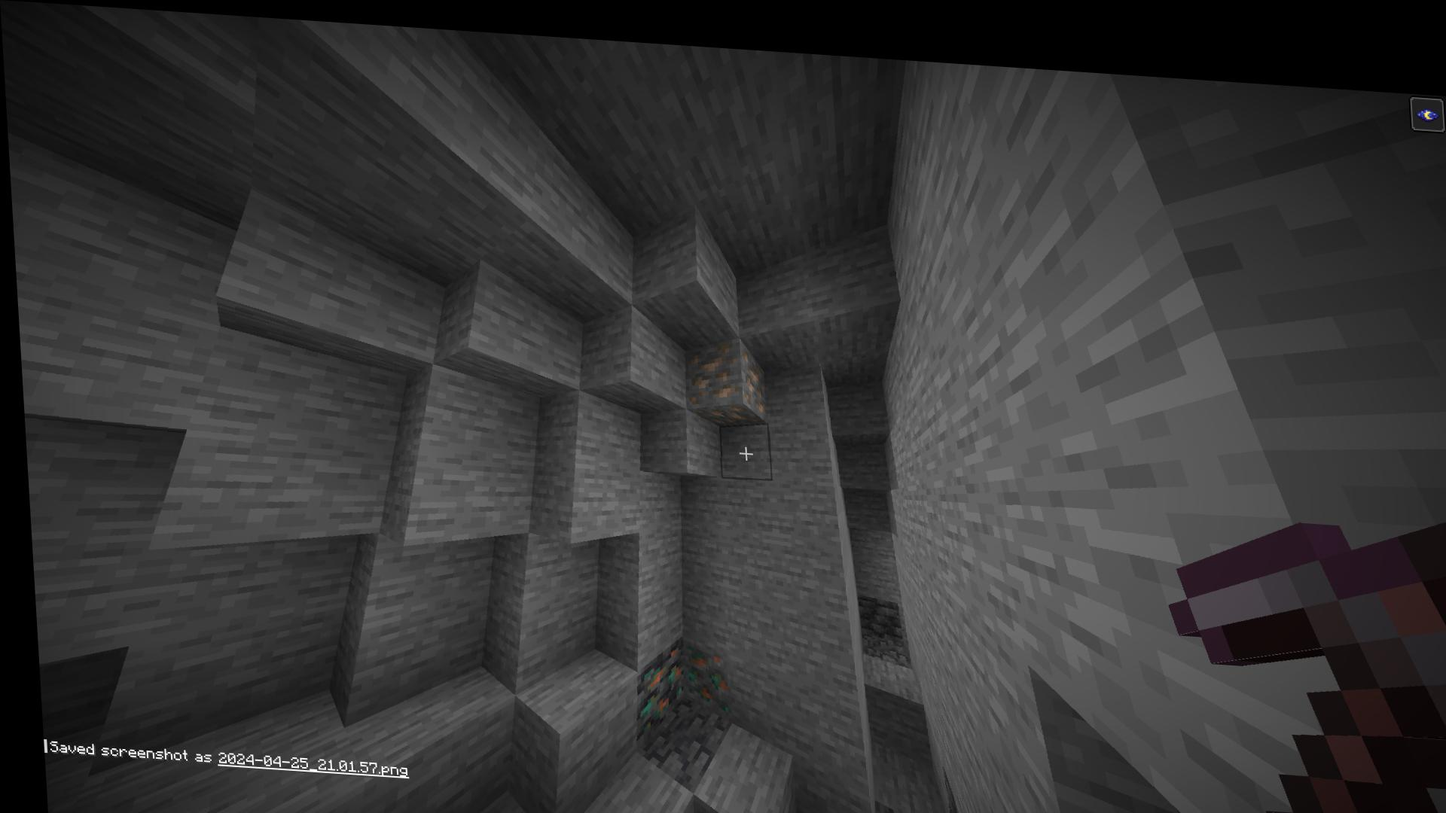iron ore: (681, 327, 740, 395), (734, 335, 766, 402), (691, 395, 755, 420)
